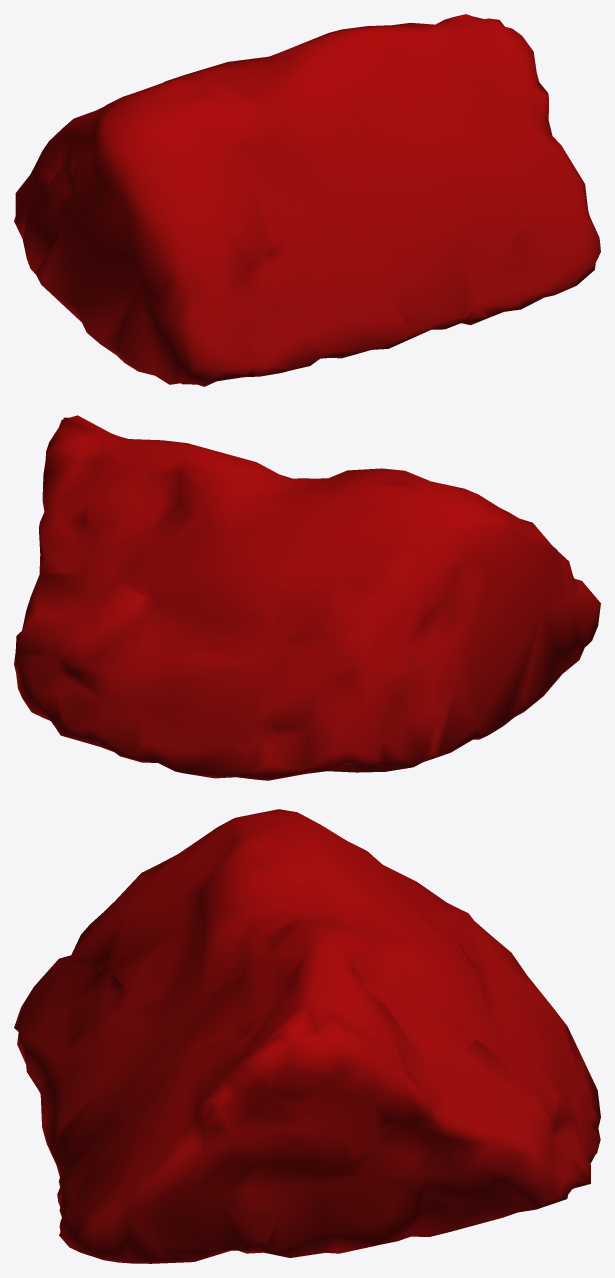
Rendered from mossrock_a_03.glb.
The picture shows the model from 3 angles, top to bottom: view 1: azimuth 30°, elevation 25°; view 2: azimuth 150°, elevation 25°; view 3: azimuth 270°, elevation 25°; orthographic projection. The views are drawn at different scales.
Parts seen in each view (by area): view 1: LOD0; view 2: LOD0; view 3: LOD0.
Boxes of the visible parts, <box> form: LOD0: <box>14,14,600,386</box>; LOD0: <box>14,415,600,780</box>; LOD0: <box>14,809,600,1263</box>.
Size of what is drawn, in the model's own units: 2.11 by 1.1 by 2.08.
